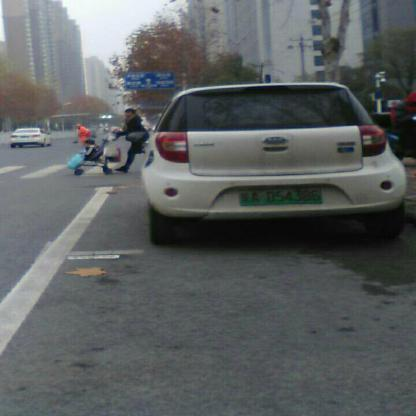lp: (238, 186, 324, 204)
